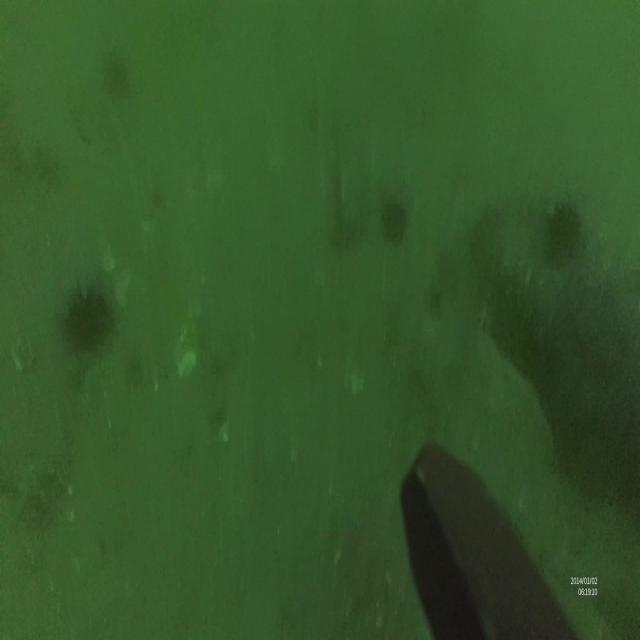echinus: (66, 283, 114, 356), (545, 194, 582, 258), (379, 198, 409, 246)
